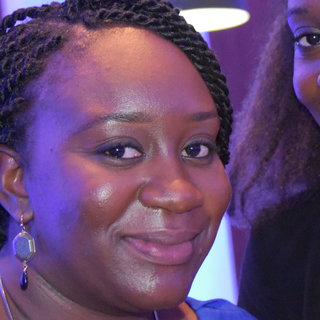eye: (93, 138, 142, 164), (175, 138, 215, 164), (291, 29, 320, 52)
